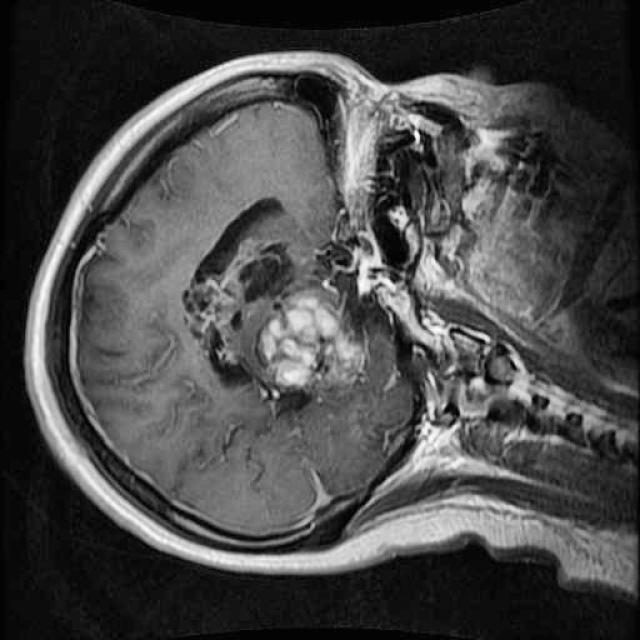Tumor: (155, 174, 371, 438)
